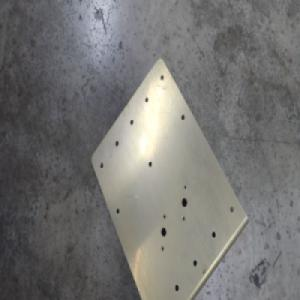MetalSheet: (90, 56, 250, 300)
